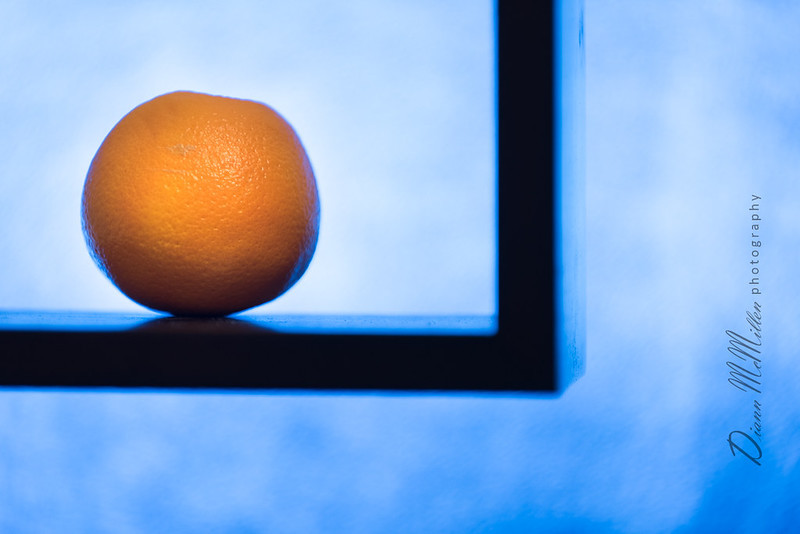orange: (73, 84, 331, 323)
